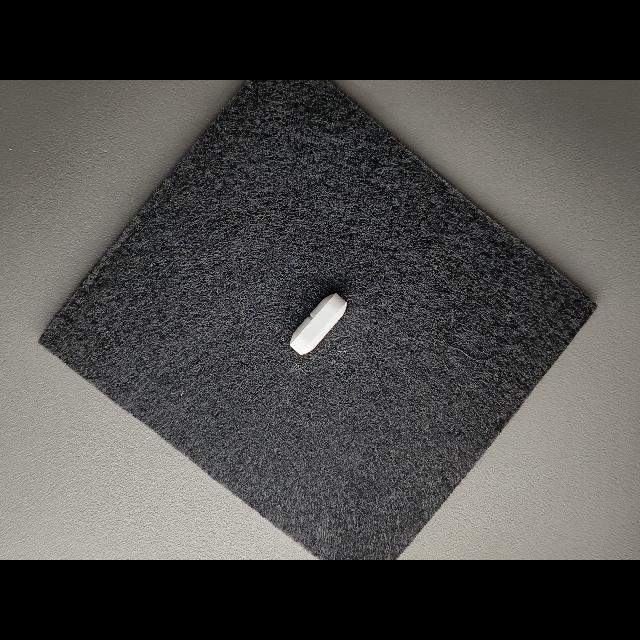Intact Pill: (289, 293, 347, 355)
